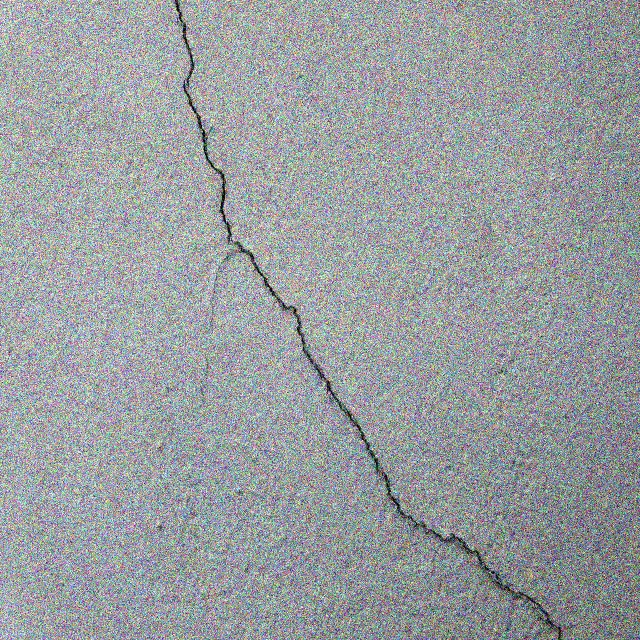SurfaceCrack: (136, 1, 620, 640)
